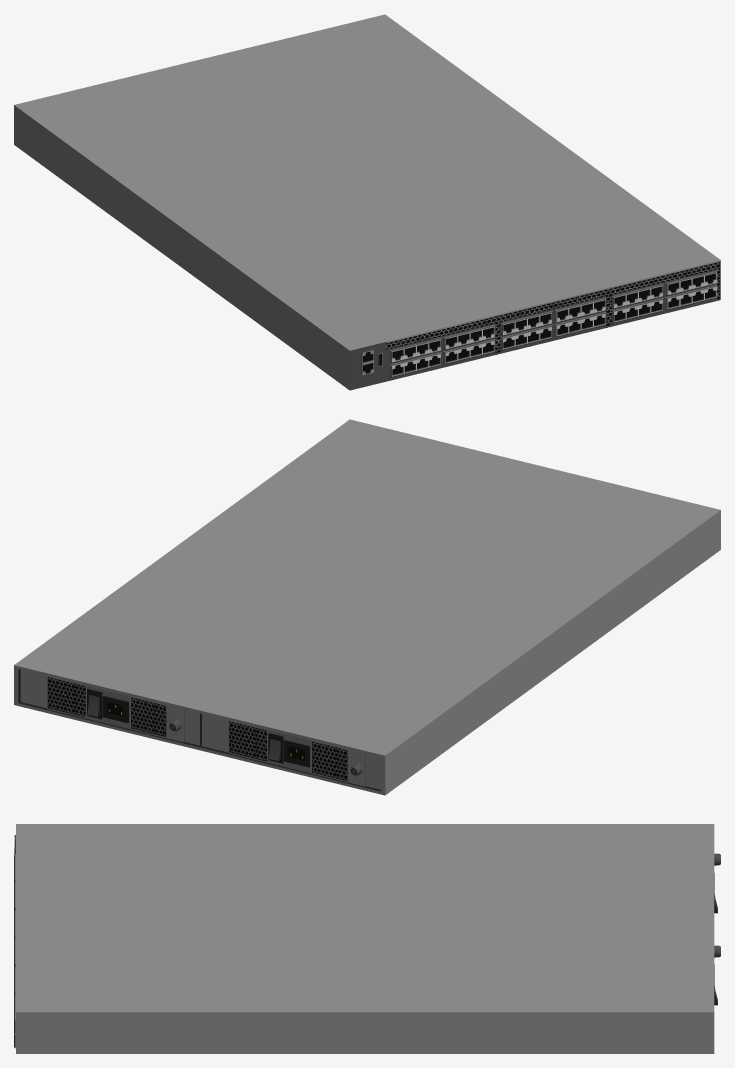
File: HPE_SN6000B.fbx
3 views of the same model, one above another, from view 1: azimuth 30°, elevation 25°; view 2: azimuth 150°, elevation 25°; view 3: azimuth 270°, elevation 25° (orthographic). The views are drawn at different scales.
Visible parts, largest first — view 1: HPE_SN6000B; view 2: HPE_SN6000B; view 3: HPE_SN6000B.
Part boxes in pixels (box(x1,y1,x2,y2)): HPE_SN6000B: box(14, 14, 720, 390); HPE_SN6000B: box(14, 419, 720, 795); HPE_SN6000B: box(14, 824, 720, 1053).
Size of the model in its own units: 434 by 44.5 by 688.
Materials: 15 (2 with a texture image).
